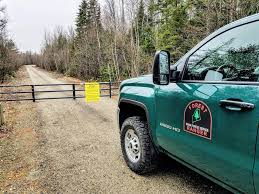Vehicle: (115, 11, 258, 186)
